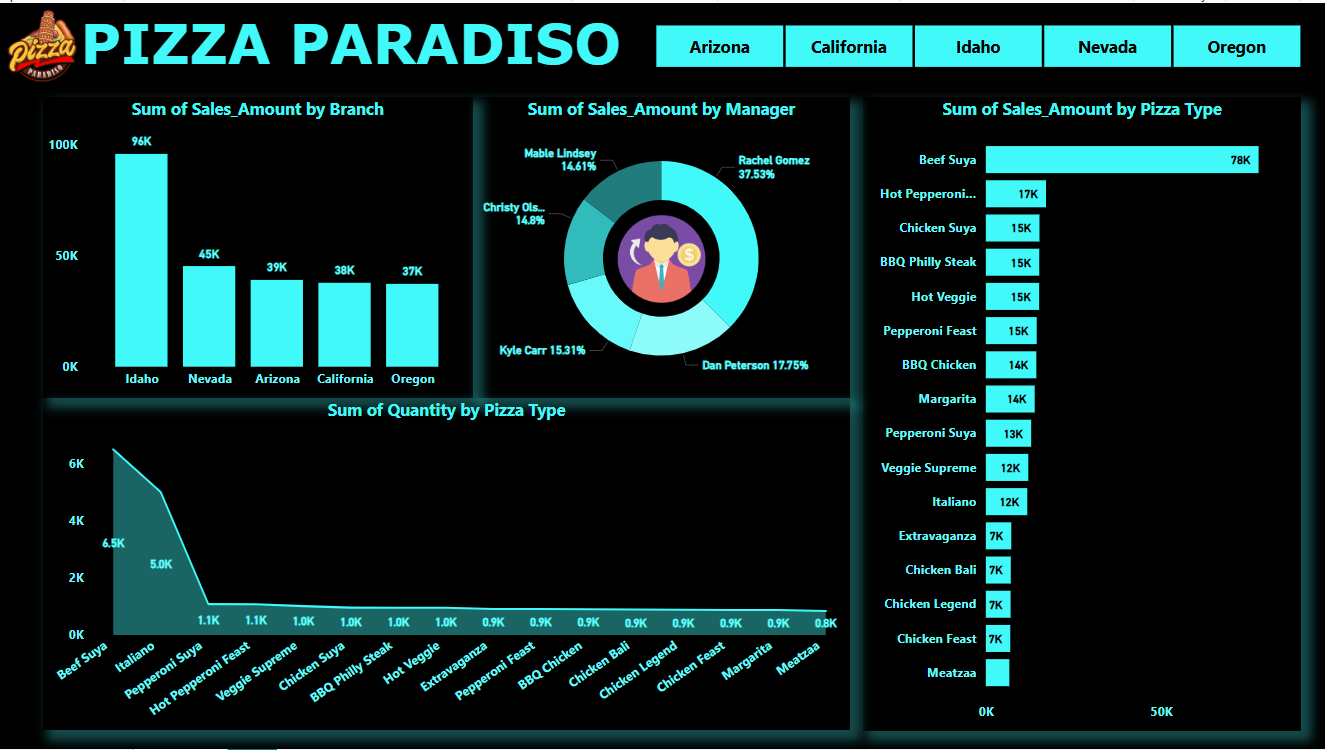

This screenshot's page, from the dashboard's own definition file:
{"tool":"powerbi","page":{"name":"Page 1","canvas":[1280,720],"ordinal":0},"visuals":[{"type":"textbox","box":[55.5,0,568.2,82],"z":0},{"type":"image","box":[0,0,83.2,82],"z":1000},{"type":"clusteredColumnChart","fields":{"Category":["Pizza Paradiso.Branch"],"Y":["Pizza Paradiso.Sales_Amount"]},"box":[42.2,90.5,415,290.8],"z":2000},{"type":"clusteredBarChart","fields":{"Category":["Pizza Paradiso.Pizza Type"],"Y":["Pizza Paradiso.Sales_Amount"]},"box":[833.7,90.5,423.5,611.7],"z":3000},{"type":"stackedAreaChart","fields":{"Category":["Pizza Paradiso.Pizza Type"],"Y":["Pizza Paradiso.Quantity"]},"box":[42.2,381.2,779.4,320.9],"z":4000},{"type":"donutChart","fields":{"Category":["Pizza Paradiso.Manager"],"Y":["Pizza Paradiso.Sales_Amount"]},"box":[457.2,90.5,364.3,290.8],"z":5000},{"type":"image","box":[575.5,199.1,127.9,96.5],"z":6000},{"type":"slicer","fields":{"Values":["Pizza Paradiso.Branch"]},"box":[608,14.5,672,54.3],"z":7000}]}

Visuals, with their boxes in screenshot pixels (x1, y1, x2, y2), scaled from the page's 1280x720 canvas onto the 1325x750 screenshot:
textbox: Rect(57, 0, 646, 85)
image: Rect(0, 0, 86, 85)
clusteredColumnChart - Pizza Paradiso.Branch x Pizza Paradiso.Sales_Amount: Rect(44, 94, 473, 397)
clusteredBarChart - Pizza Paradiso.Pizza Type x Pizza Paradiso.Sales_Amount: Rect(863, 94, 1301, 731)
stackedAreaChart - Pizza Paradiso.Pizza Type x Pizza Paradiso.Quantity: Rect(44, 397, 850, 731)
donutChart - Pizza Paradiso.Manager x Pizza Paradiso.Sales_Amount: Rect(473, 94, 850, 397)
image: Rect(596, 207, 728, 308)
slicer - Pizza Paradiso.Branch: Rect(629, 15, 1324, 72)
